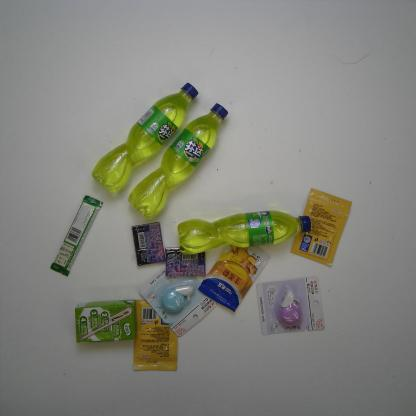Chocolate: (49, 194, 104, 276)
Drink: (90, 81, 200, 194), (126, 102, 230, 219), (177, 209, 312, 256)
Gum: (130, 220, 168, 266), (164, 246, 207, 277)
Milk: (74, 299, 135, 343)
Seasoner: (198, 244, 272, 314), (289, 188, 353, 267), (132, 300, 178, 372)
Stationery: (139, 266, 218, 338), (255, 276, 325, 335)
